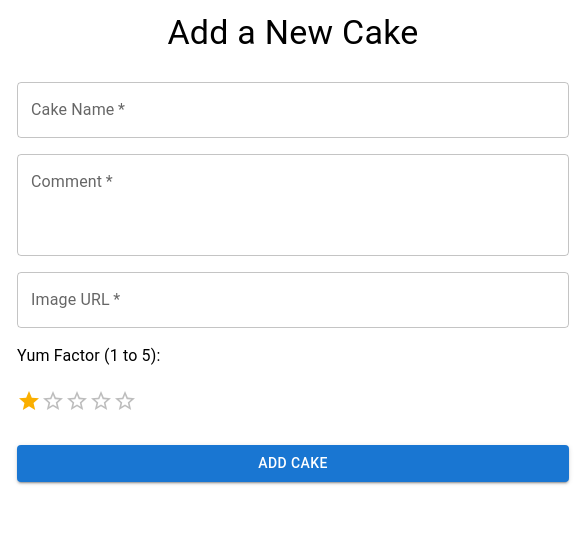
Test: CakeForm Component › shows error message on API error
Type "New Cake" into the field labelled "Cake Name *".
click(293, 110); type("New Cake")  # box [17,82,569,138]
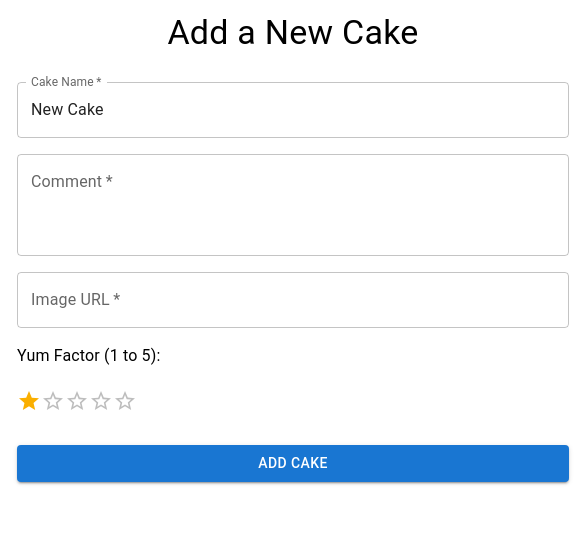
Type "Delicious cake" into the text box labelled "Comment *".
click(293, 205); type("Delicious cake")  # box [31,170,555,239]
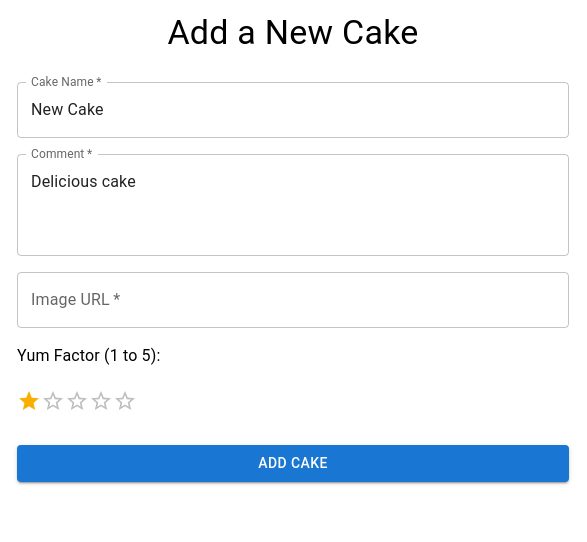
Type "http://example.com/new-cake.jpg" into the field labelled "Image URL *".
click(293, 300); type("http://example.com/new-cake.jpg")  # box [17,272,569,328]
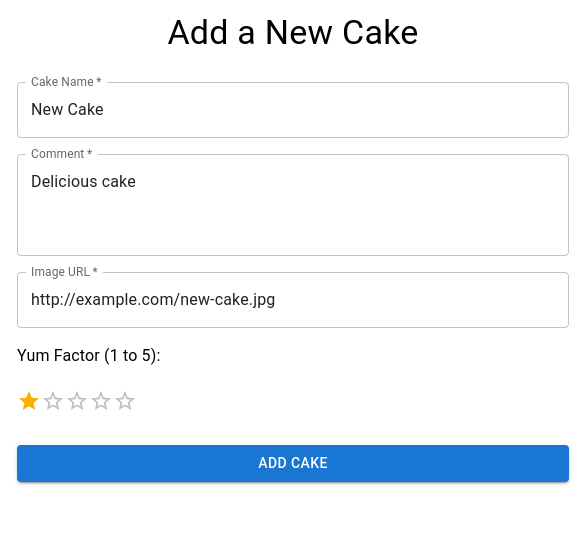
Click the button "Add Cake".
click(293, 464)  # box [17,446,569,482]
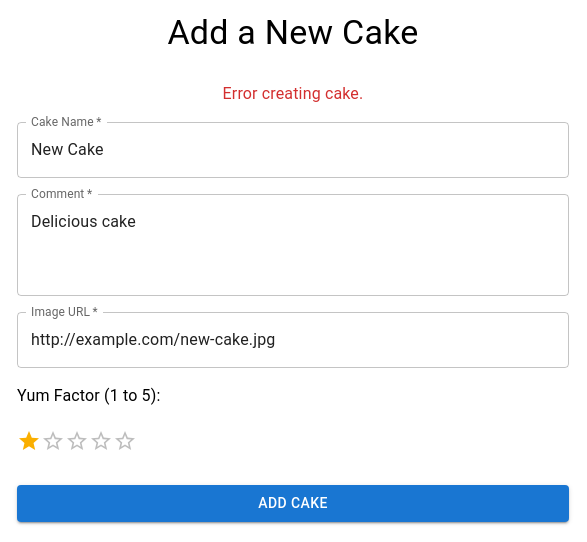
Expected: the text "Error creating cake." is shown, [223,84,363,103]
